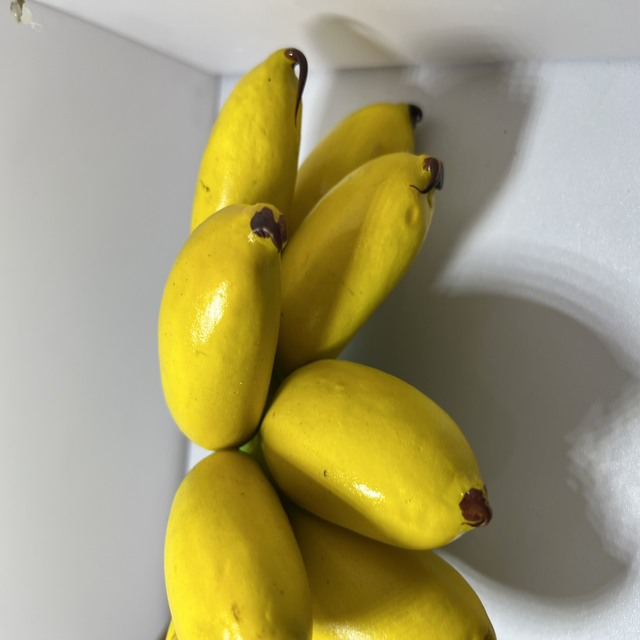Chuoi: (149, 49, 510, 640)
